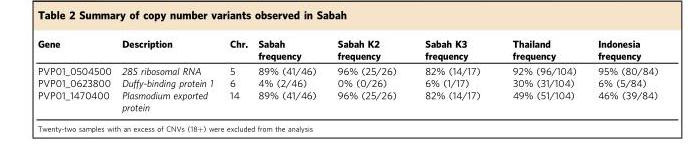table: (36, 37, 657, 112)
table column: (116, 37, 220, 112), (495, 37, 586, 112), (410, 37, 495, 112), (326, 37, 410, 112), (36, 37, 116, 112), (252, 37, 326, 112), (586, 37, 657, 112), (220, 37, 252, 112)
table column header: (36, 37, 657, 62)
table row: (36, 37, 657, 62), (36, 88, 657, 112), (36, 62, 657, 76), (36, 76, 657, 88)
